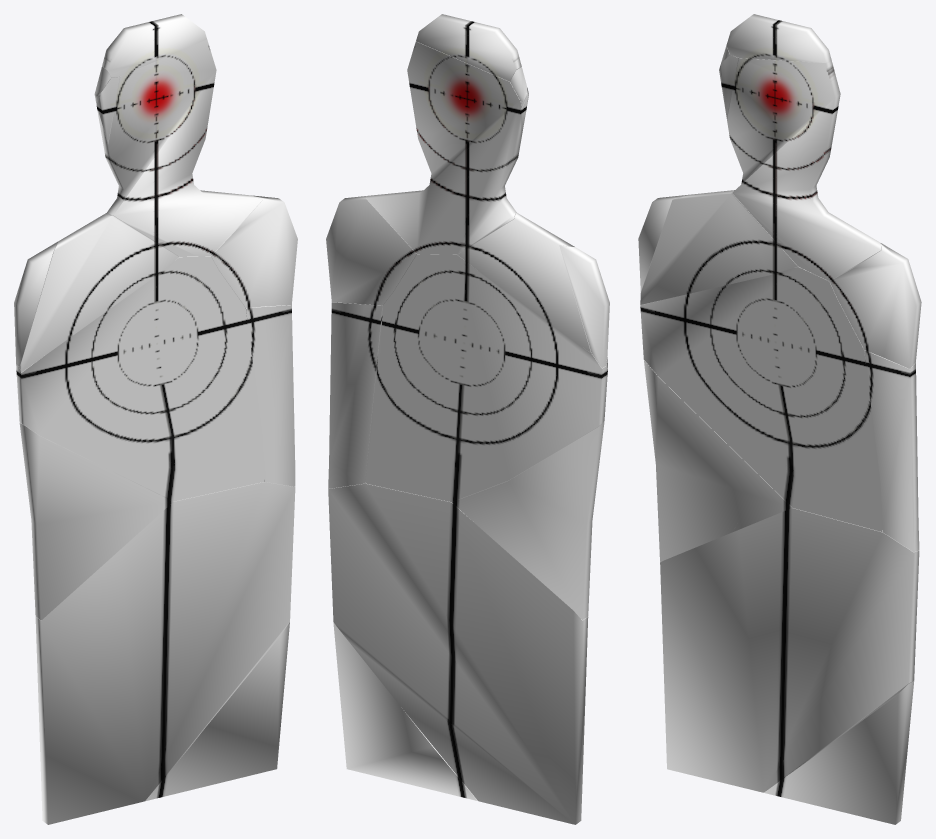
File: ShootingTargetFractured.fbx
3 renders of one model, left to right at view 1: azimuth 30°, elevation 25°; view 2: azimuth 150°, elevation 25°; view 3: azimuth 330°, elevation 25°, orthographic.
Parts seen in each view (by area): view 1: Cube_cell.002, Cube_cell.001, Cube_cell.012, Cube_cell.003, Cube_cell.008, Cube_cell, Cube_cell.009, Cube_cell.006, Cube_cell.016, Cube_cell.017, Cube_cell.010; view 2: Cube_cell.002, Cube_cell.001, Cube_cell.012, Cube_cell.003, Cube_cell, Cube_cell.009, Cube_cell.008, Cube_cell.006, Cube_cell.016, Cube_cell.017; view 3: Cube_cell.002, Cube_cell.001, Cube_cell.012, Cube_cell.003, Cube_cell.008, Cube_cell, Cube_cell.009, Cube_cell.006, Cube_cell.016, Cube_cell.017, Cube_cell.010.
Part boxes in pixels (x1,y1,x2,y2): Cube_cell.002: (35,482,295,824); Cube_cell.001: (16,256,264,501); Cube_cell.012: (96,39,262,256); Cube_cell.003: (19,423,173,620); Cube_cell.008: (19,214,178,372); Cube_cell: (145,622,289,801); Cube_cell.009: (245,305,295,486); Cube_cell.006: (211,195,297,307); Cube_cell.016: (102,14,206,77); Cube_cell.017: (14,241,58,366); Cube_cell.010: (96,77,119,143); Cube_cell.002: (328,482,588,824); Cube_cell.001: (365,254,607,501); Cube_cell.012: (366,41,521,254); Cube_cell.003: (451,422,604,619); Cube_cell: (333,622,477,800); Cube_cell.009: (328,302,382,488); Cube_cell.008: (457,212,607,367); Cube_cell.006: (326,196,416,305); Cube_cell.016: (416,14,521,81); Cube_cell.017: (559,245,609,368); Cube_cell.002: (660,508,919,792); Cube_cell.001: (640,266,882,531); Cube_cell.012: (727,57,880,281); Cube_cell.003: (644,360,792,561); Cube_cell.008: (640,190,797,304); Cube_cell: (764,681,914,824); Cube_cell.009: (864,350,919,552); Cube_cell.006: (829,243,921,368); Cube_cell.016: (726,14,831,62); Cube_cell.017: (638,194,688,292); Cube_cell.010: (719,55,738,118).
Size of the model in its own units: 253 by 670 by 8.94.
Materials: 1 (1 with a texture image).
